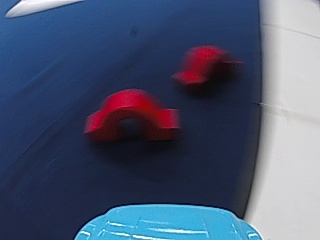bridge: (77, 84, 184, 142), (170, 41, 232, 96)
